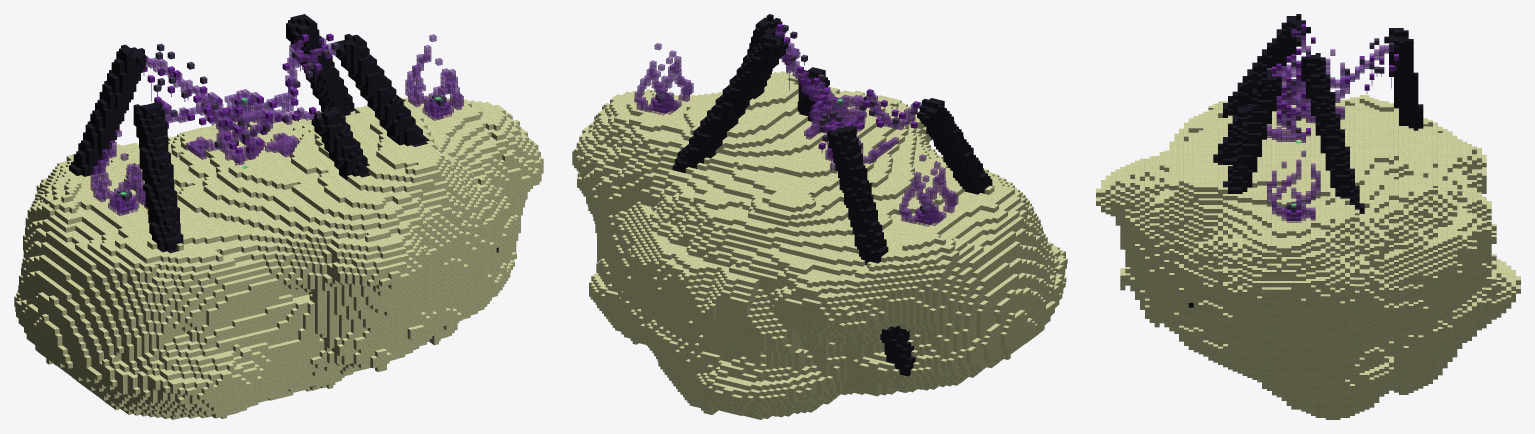
File: mid.glb
3 renders of one model, left to right at view 1: azimuth 30°, elevation 25°; view 2: azimuth 150°, elevation 25°; view 3: azimuth 270°, elevation 25°, orthographic. The views are drawn at different scales.
Parts seen in each view (by area): view 1: minecraft:purple_stained_glass_pane; view 2: minecraft:purple_stained_glass_pane; view 3: minecraft:purple_stained_glass_pane.
Boxes of the visible parts, bbox=[...] form: minecraft:purple_stained_glass_pane: bbox=[14, 14, 543, 419]; minecraft:purple_stained_glass_pane: bbox=[572, 14, 1067, 419]; minecraft:purple_stained_glass_pane: bbox=[1096, 14, 1520, 419].
Bounding box in the file's own units: 100 × 74 × 87.
7 materials, 7 textured.
